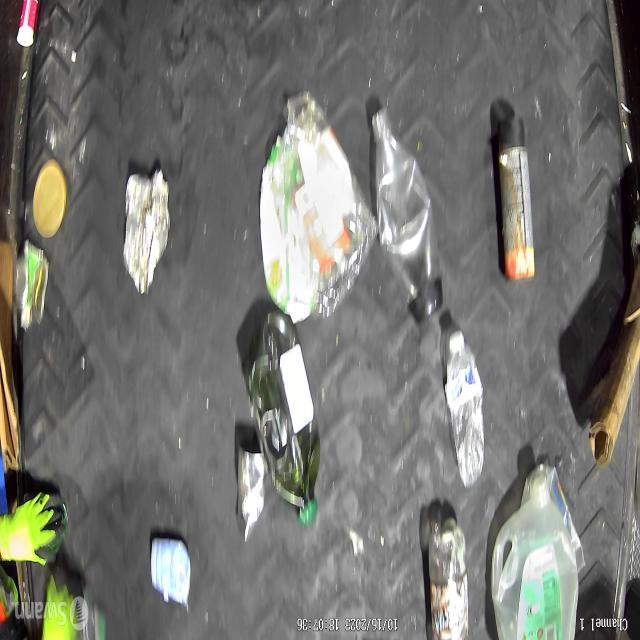can: (234, 447, 264, 545)
milk_jug: (491, 469, 581, 640)
plastic_bottle: (246, 310, 320, 528), (370, 120, 443, 321), (444, 323, 485, 485)
